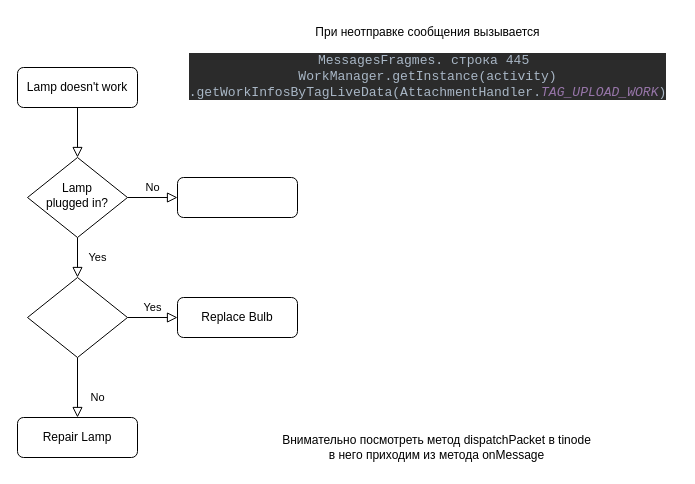
This 695x484 diagram has some shape labels left out. The shapes that lost their labels are listed below. From the top down, each one's centre as x and y in pixels, then its label:
(237,197): Plug in lamp
(77,317): Bulb burned out?
